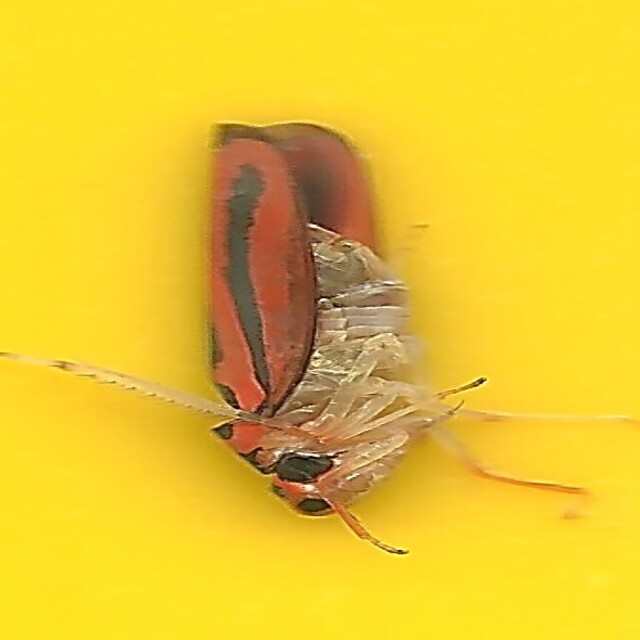Hemiptera: (189, 108, 451, 532)
